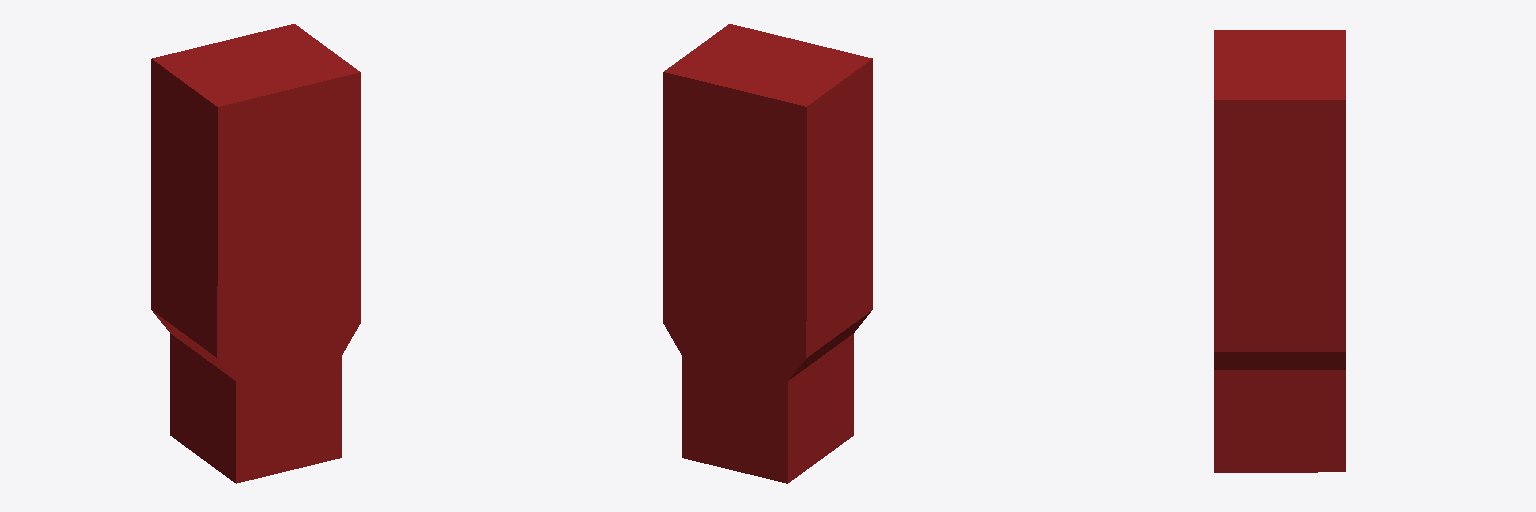
The model's file is L_AFE.obj.
3 renders of one model, left to right at view 1: azimuth 30°, elevation 25°; view 2: azimuth 150°, elevation 25°; view 3: azimuth 270°, elevation 25°, orthographic.
Size of the model in its own units: 1.85 by 4.7 by 1.48.